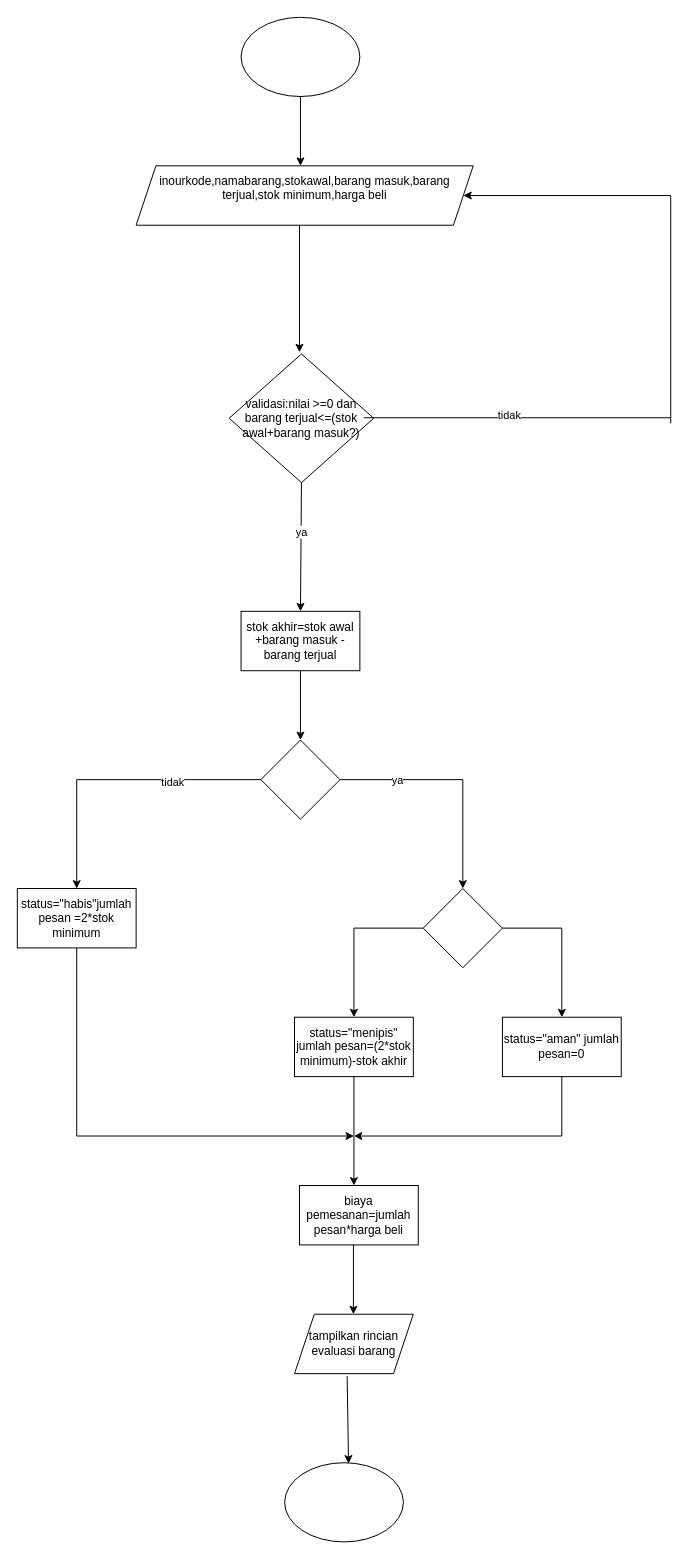
This 696x1559 diagram has some shape labels left out. The shapes that lost their labels are listed below. From the top down, each one's box as (x1, y1, x2, y2) in pixels, then its label:
(240, 16, 360, 97): start
(260, 739, 340, 819): stok akhir==0?
(422, 888, 502, 968): stok akhir<stok minimum?
(284, 1462, 403, 1542): selesai
